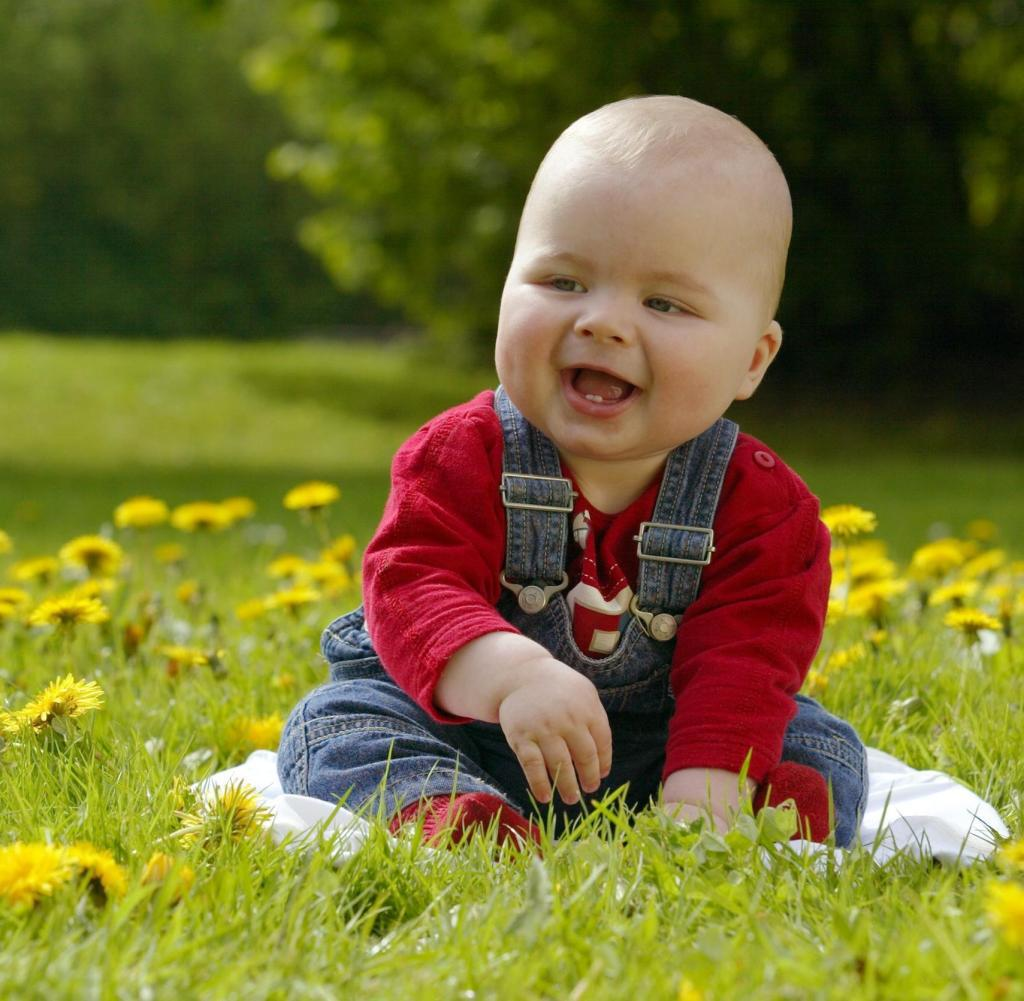child: (246, 62, 899, 856)
